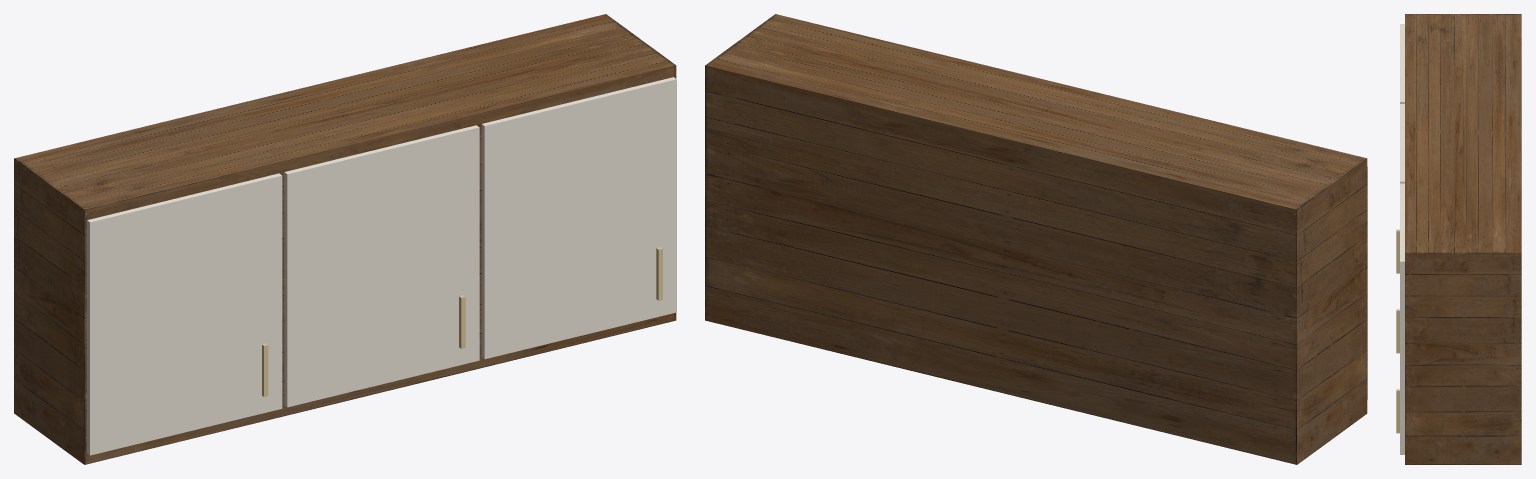
File: armario_aereo_170.glb
3 renders of one model, left to right at view 1: azimuth 30°, elevation 25°; view 2: azimuth 150°, elevation 25°; view 3: azimuth 270°, elevation 25°, orthographic. The views are drawn at different scales.
Visible parts, largest first — view 1: armario_aereo_170; view 2: armario_aereo_170; view 3: armario_aereo_170.
Boxes of the visible parts, x1=… form: armario_aereo_170: x1=14, y1=14, x2=676, y2=464; armario_aereo_170: x1=705, y1=14, x2=1367, y2=464; armario_aereo_170: x1=1396, y1=14, x2=1521, y2=464.
Bounding box in the file's own units: 1.7 × 0.7 × 0.376.
3 materials, 1 textured.
